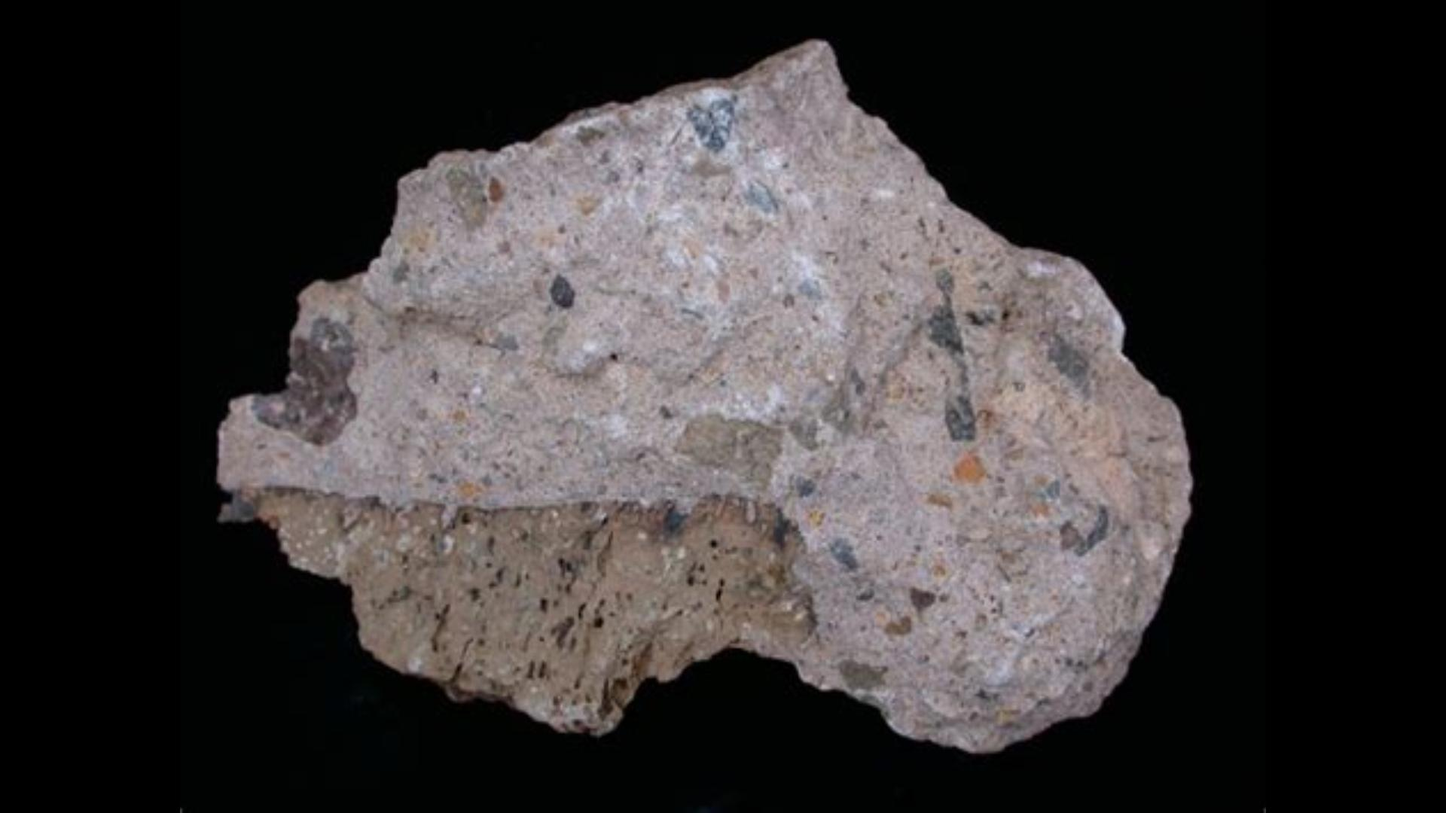rock: (219, 41, 1186, 749)
